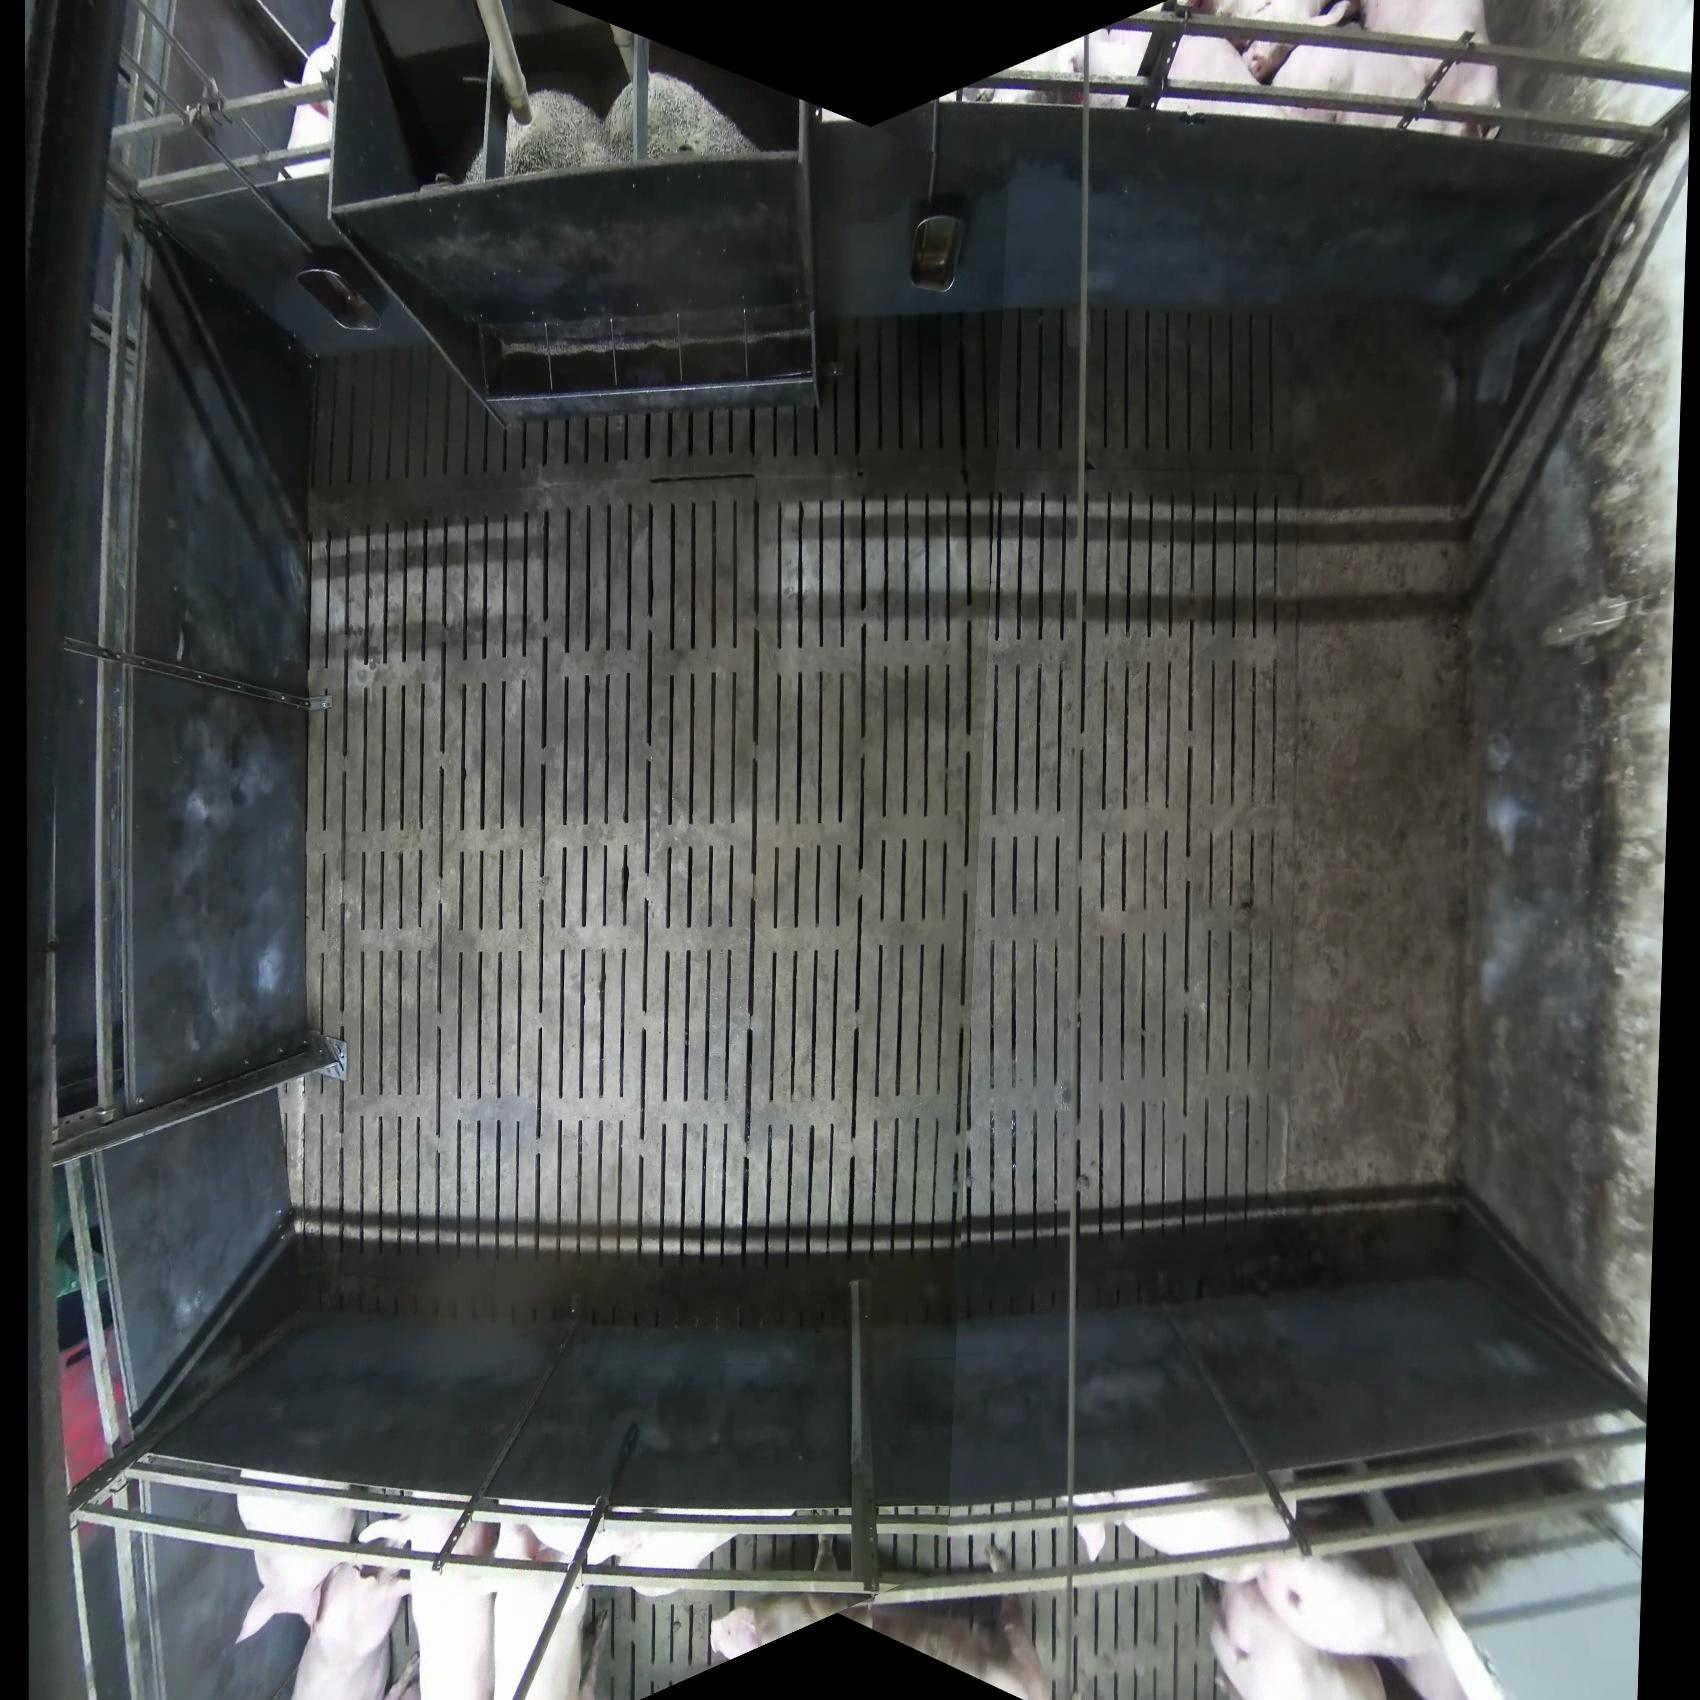pig: (693, 1530, 1055, 1700), (1183, 2, 1505, 140), (1207, 1552, 1474, 1700)
